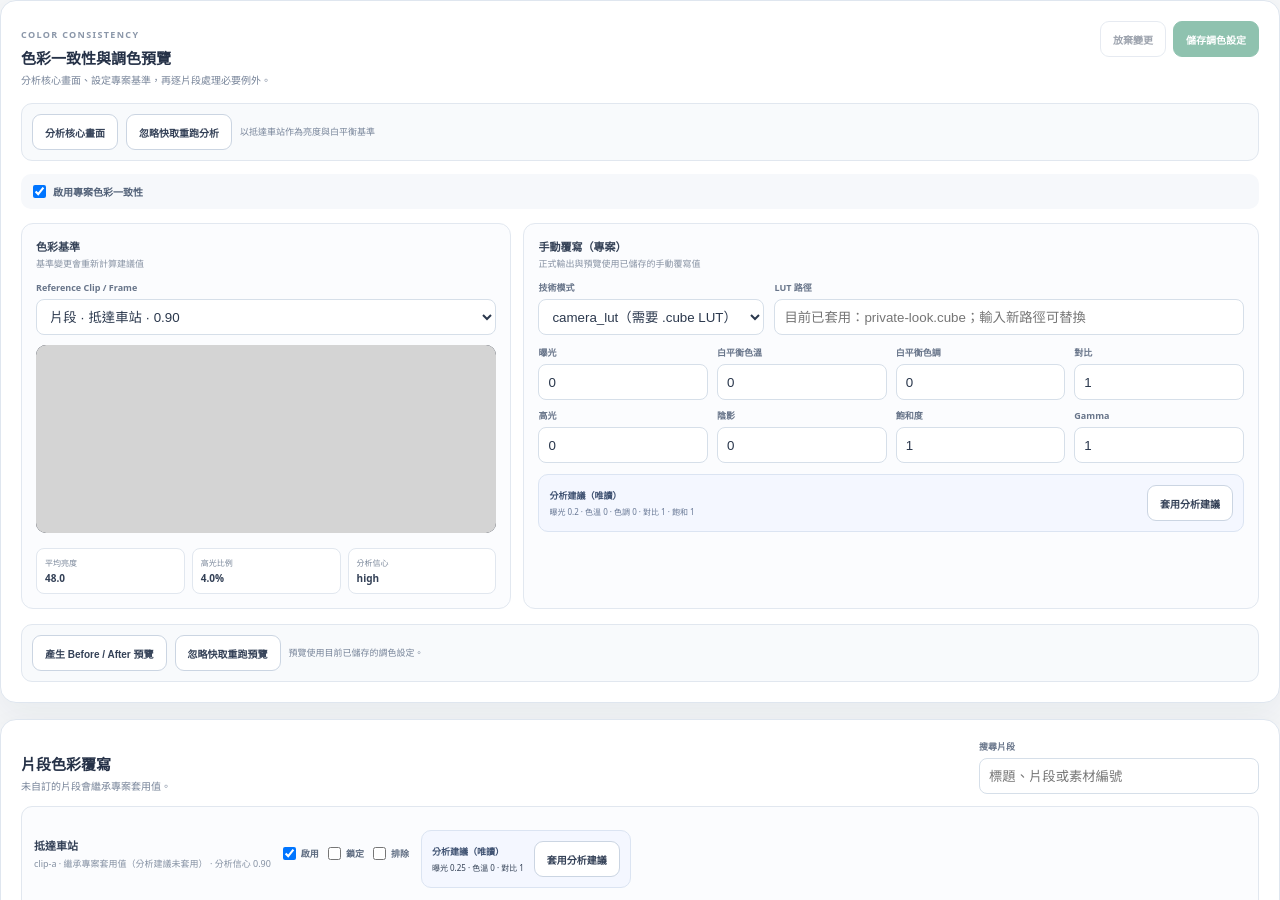
ColorConsistencyWorkspace › keeps a masked server LUT usable without exposing its local path
Expected: the field labelled "LUT 路徑" is empty, [774,299,1244,335]
Expected: the button "儲存調色設定" is disabled, [1173,21,1259,57]
Replace the text in the number field named "專案曝光" with ".2" at point(623, 382), box [538,364,708,400]
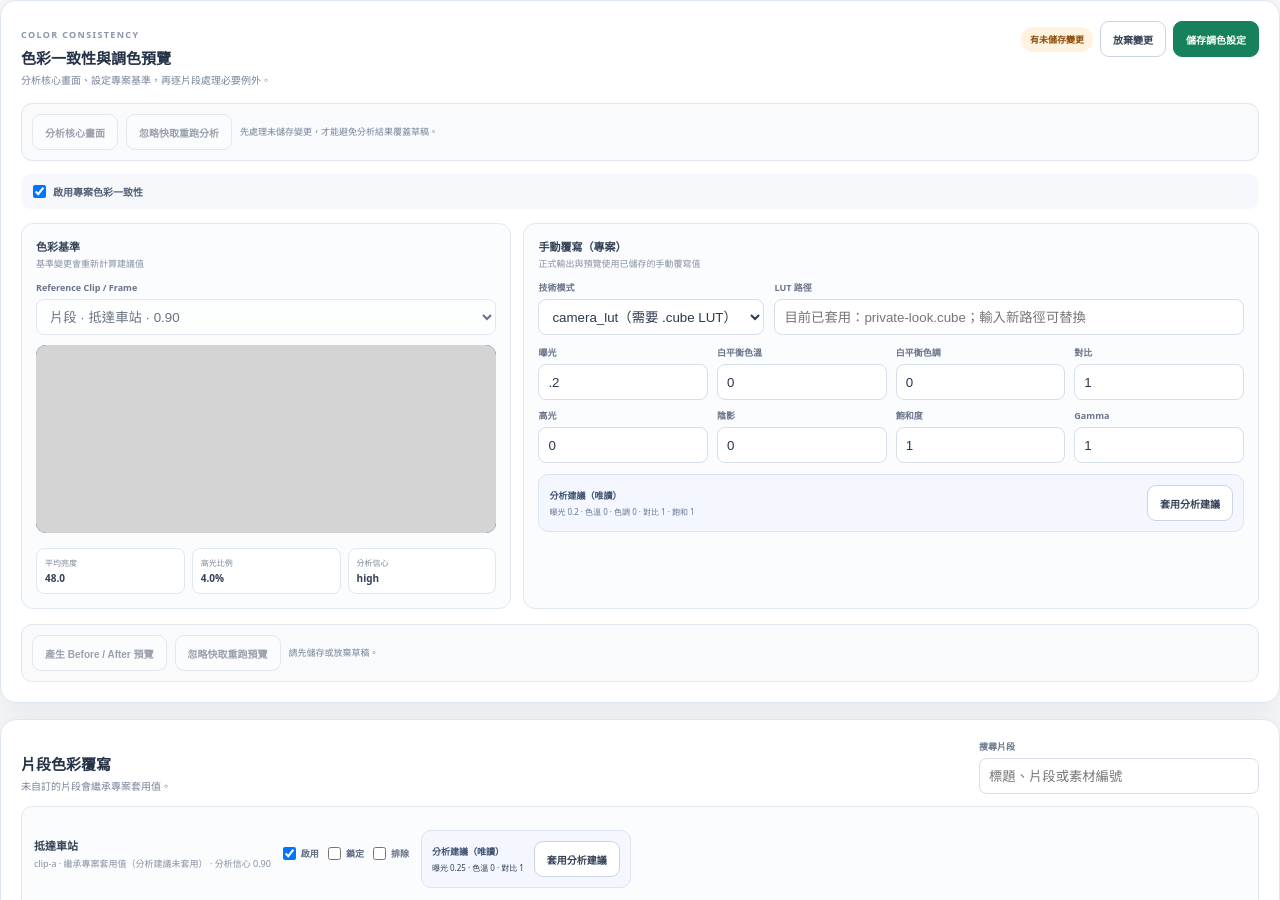
Result: the button "儲存調色設定" is enabled at [1173,21,1259,57]
